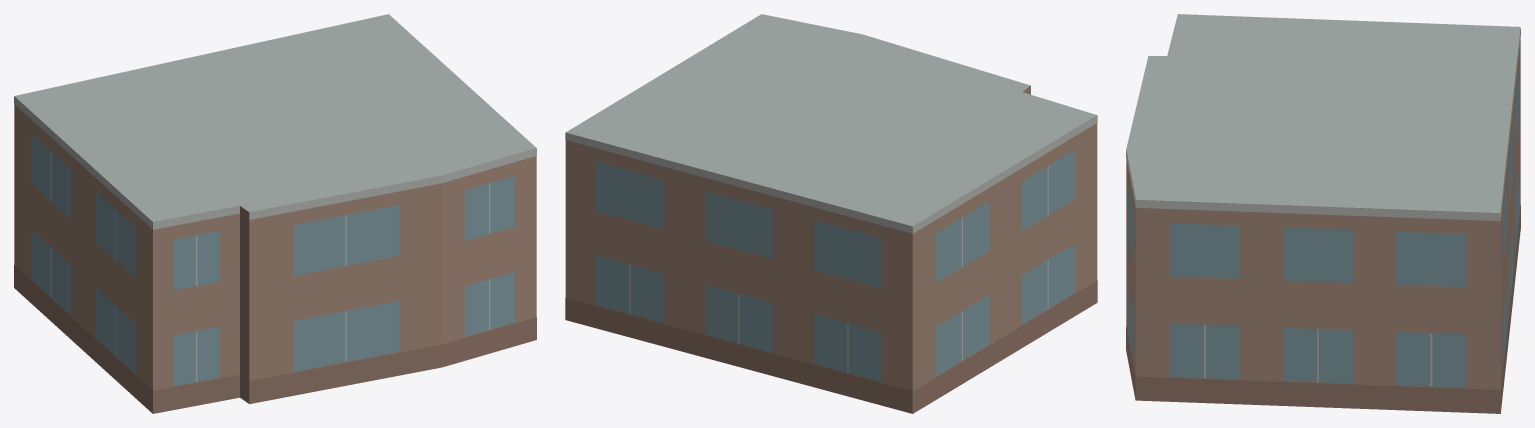
File: survey-upis-32673738.glb
The picture shows the model from 3 angles, left to right: view 1: azimuth 30°, elevation 25°; view 2: azimuth 150°, elevation 25°; view 3: azimuth 270°, elevation 25°; orthographic projection. The views are drawn at different scales.
Visible parts, largest first — view 1: survey-upis-32673738.tmp; view 2: survey-upis-32673738.tmp; view 3: survey-upis-32673738.tmp.
Boxes of the visible parts, bbox=[...] form: survey-upis-32673738.tmp: bbox=[14, 14, 536, 413]; survey-upis-32673738.tmp: bbox=[565, 14, 1097, 413]; survey-upis-32673738.tmp: bbox=[1126, 14, 1520, 413].
Bounding box in the file's own units: 12.99 × 6.1 × 10.88.
